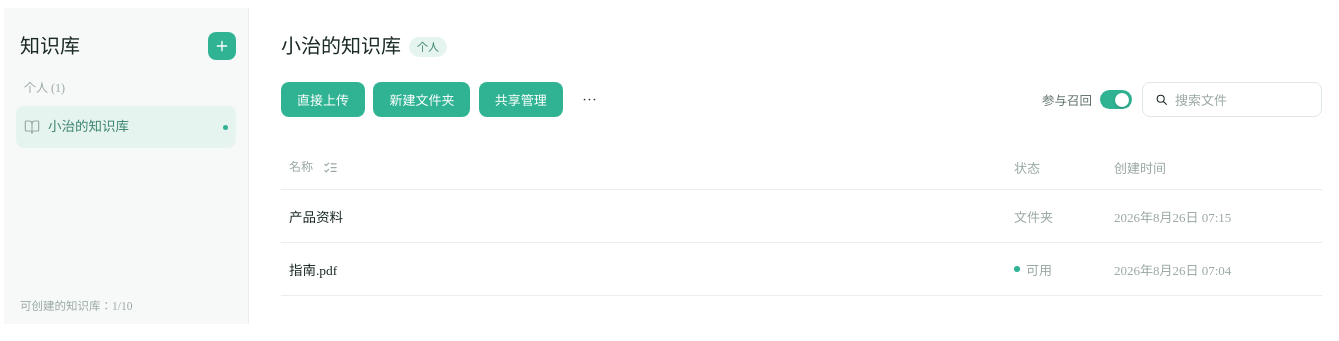
Test: shows created time in a column and reveals checkboxes only while selecting
Check: the element with class "mk-fhead" shows "名称", box 289,160 -> 313,174
Check: the element with class "mk-fhead" shows "创建时间", box 1114,160 -> 1166,176
Click the button named "多选". click: [330, 167]
box: 317,154 -> 343,180
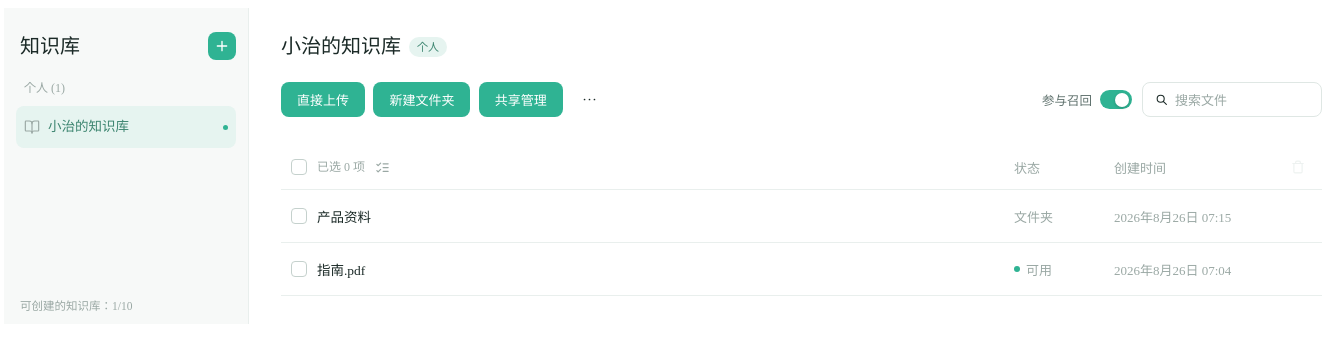
Check: the element with class "mk-selecting" is shown, box 281,153 -> 1322,296
Check: the 2nd checkbox with class "mk-check" is shown
Check: the element with class "mk-fhead" shows "已选 0 项", box 317,160 -> 365,174
Click the 2nd checkbox with class "mk-check". click: [299, 216]
box: 291,208 -> 307,224
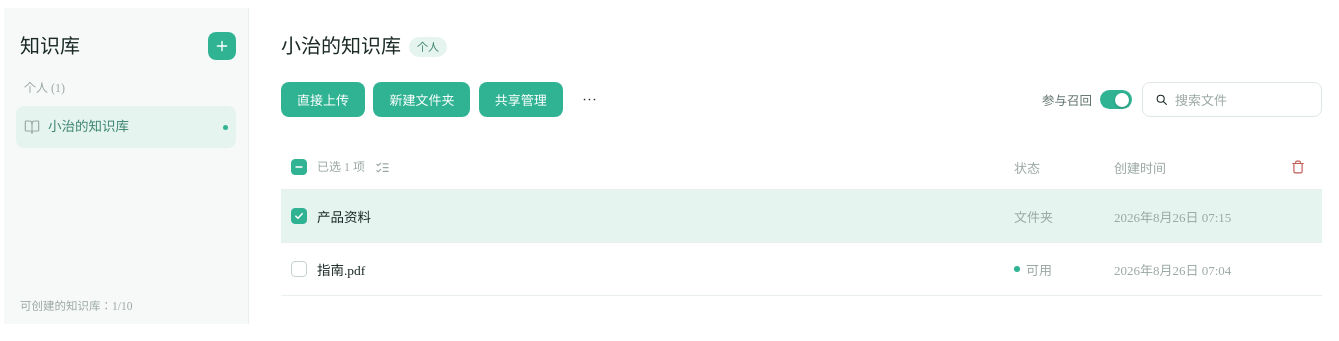
Check: the element with class "mk-fhead" shows "已选 1 项", box 317,160 -> 365,174
